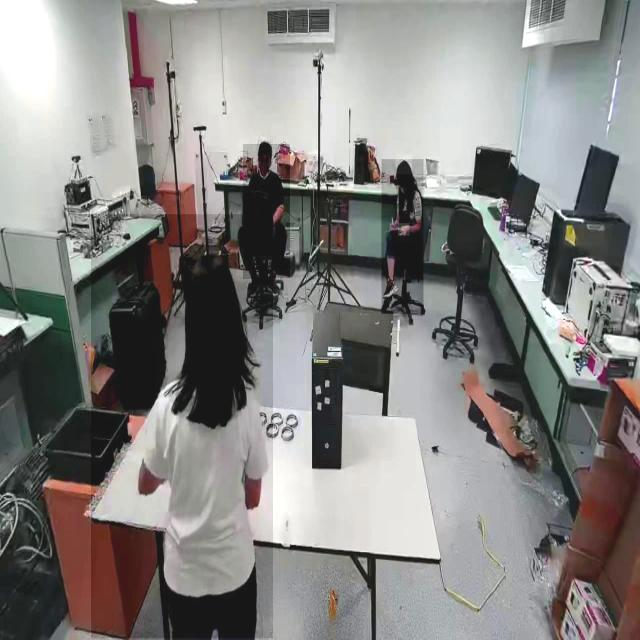face_nomask: (258, 154, 270, 175)
hand_noglove: (398, 223, 410, 237), (389, 217, 399, 231)
head_nohelmet: (184, 251, 236, 304), (396, 159, 412, 175), (258, 140, 272, 154)
person: (91, 214, 273, 639), (382, 159, 424, 315), (243, 144, 291, 279)
shoes: (382, 270, 398, 302)
